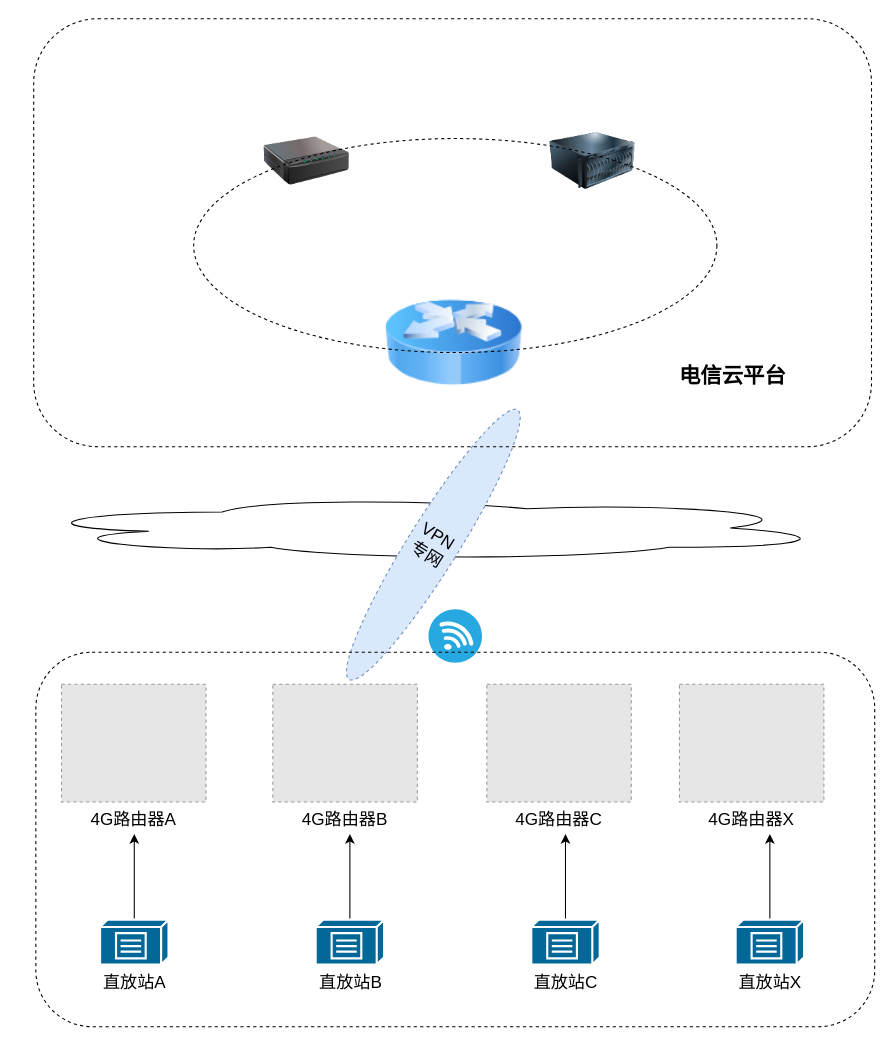
Image size: 893x1045. Some labels were removed from this diagram. Grey dashed boxes stand in for pictures. The box of each missing label's shape, as (x1, y1, x2, y2) in pixels:
4G终端网管平台: (549, 118, 635, 203)
公网: (18, 495, 832, 560)
直放站网管平台: (263, 118, 349, 203)
